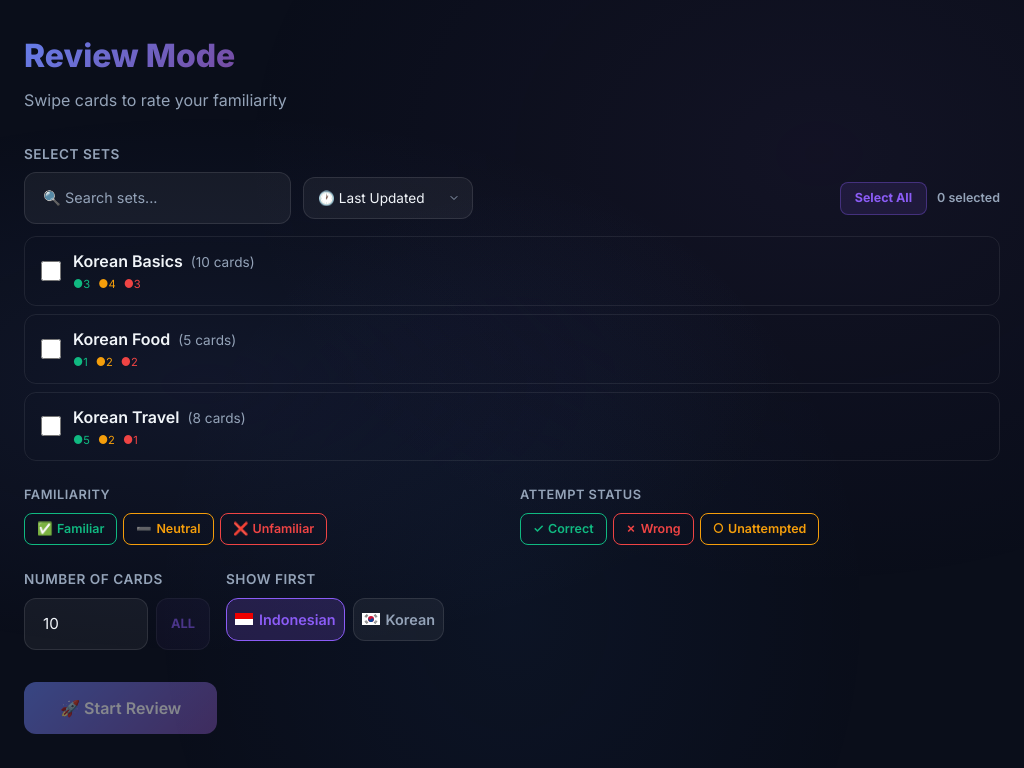
Test: ReviewMode › Setup screen › Start Review button starts review session
Expected: the text "Korean Basics" is shown, [73, 251, 183, 271]
Step 1. Click the checkbox labelled "Korean Basics(10 cards) ●3 ●4 ●3" → {"x": 51, "y": 271}, box [41, 261, 61, 281]
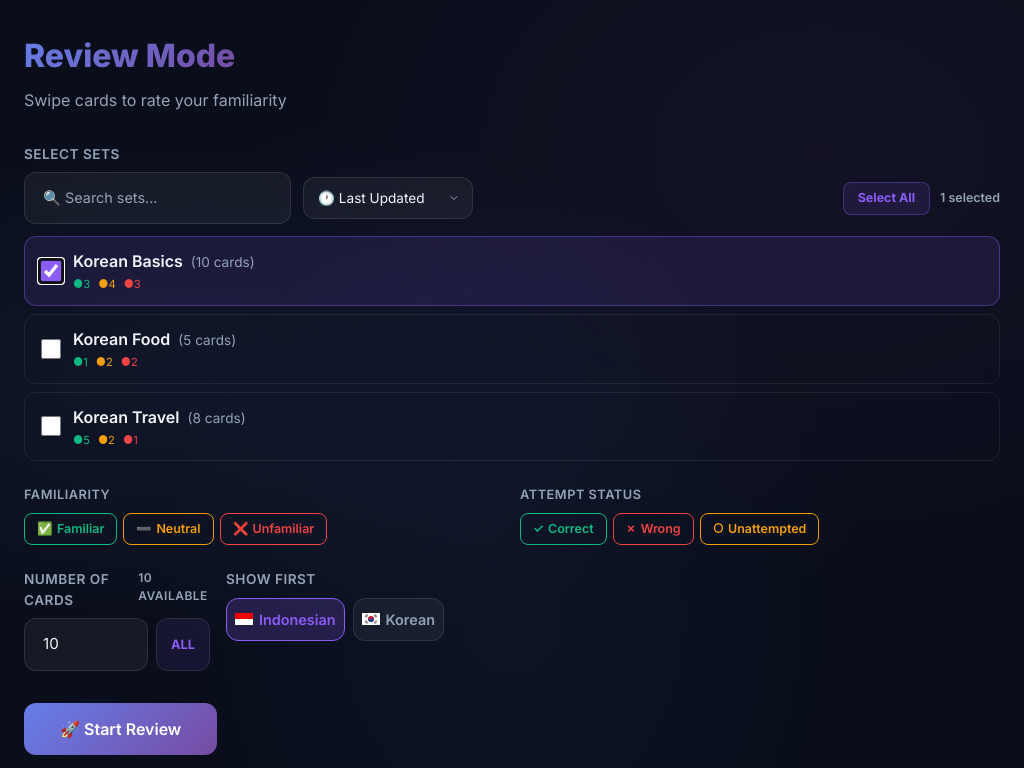
Step 2. Click the button "🚀 Start Review" → {"x": 121, "y": 729}, box [24, 703, 217, 755]
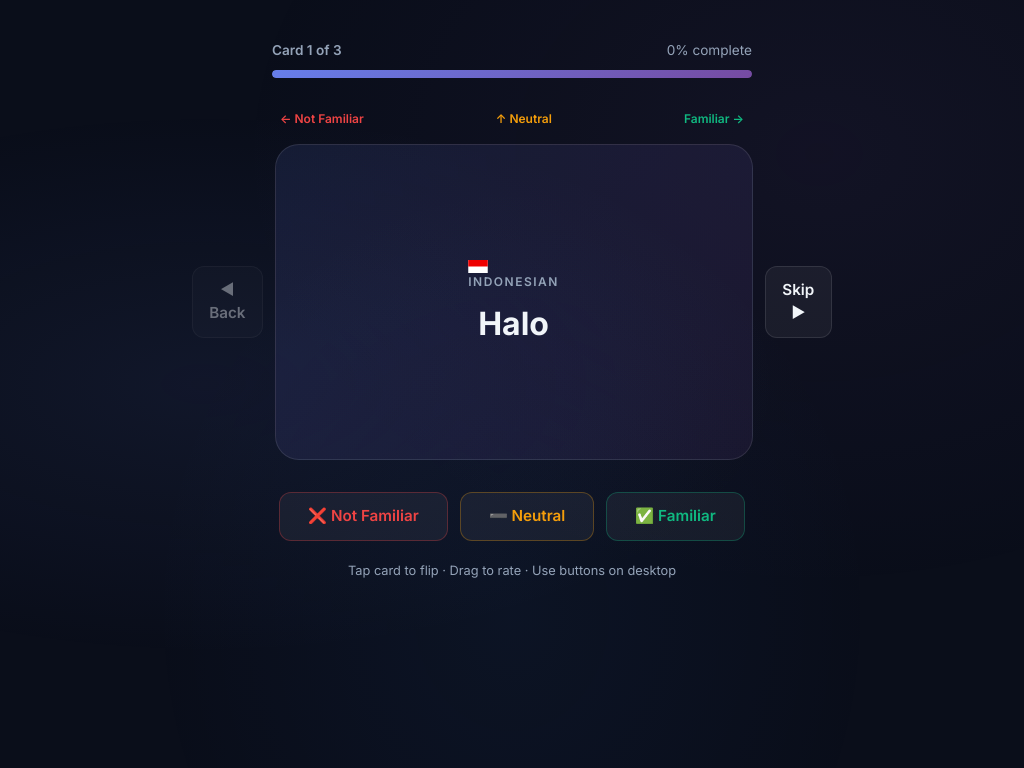
Result: the text "안녕하세요" is shown at [440, 303, 587, 344]
